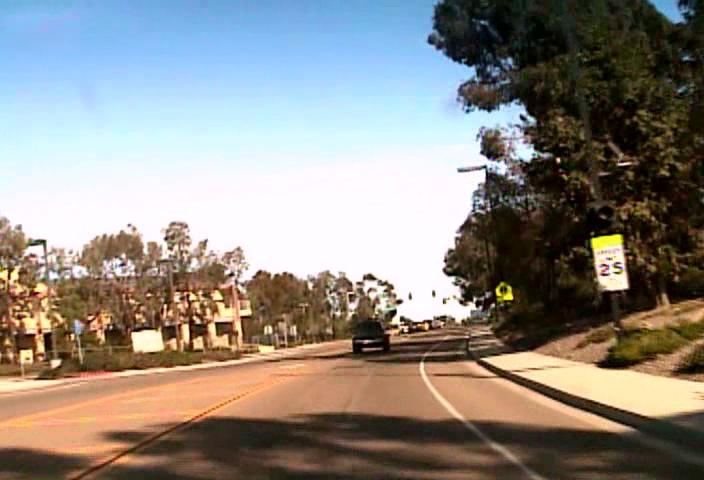schoolSpeedLimit25: (591, 233, 629, 291)
